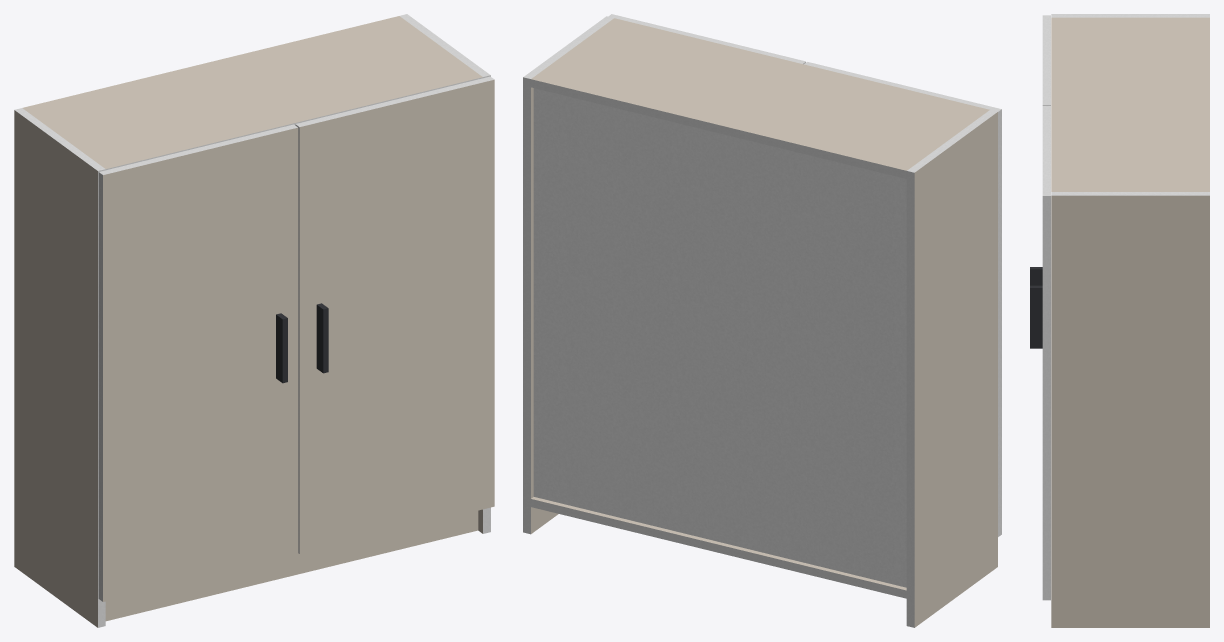
The model's file is CAL-SHO-std.glb.
3 views of the same model, side by side, from view 1: azimuth 30°, elevation 25°; view 2: azimuth 150°, elevation 25°; view 3: azimuth 270°, elevation 25° (orthographic). The views are drawn at different scales.
Parts seen in each view (by area): view 1: door-r:pbr, door-l:pbr, side-l:pbr, top:pbr, plinth:pbr, door-l:sheet:eyJtIjoibWRmIiwic2lkZSI6ImVkZ2UtbG9uZyIsInNlZWQ, pull, door-l:sheet:eyJtIjoibWRmIiwic2lkZSI6ImVkZ2UtZW5kIiwic2VlZCI, door-r:sheet:eyJtIjoibWRmIiwic2lkZSI6ImVkZ2UtZW5kIiwic2VlZCI, door-r:sheet:eyJtIjoibWRmIiwic2lkZSI6ImVkZ2UtbG9uZyIsInNlZWQ, side-l:sheet:eyJtIjoibWRmIiwic2lkZSI6ImVkZ2UtZW5kIiwic2VlZCI, side-r:sheet:eyJtIjoibWRmIiwic2lkZSI6ImVkZ2UtZW5kIiwic2VlZCI (+2 smaller); view 2: back:sheet:eyJtIjoibWRmIiwic2lkZSI6ImZhY2UiLCJzZWVkIjoxLCJ0a, side-l:pbr, top:pbr, side-l:sheet:eyJtIjoibWRmIiwic2lkZSI6ImVkZ2UtbG9uZyIsInNlZWQ, side-r:sheet:eyJtIjoibWRmIiwic2lkZSI6ImVkZ2UtbG9uZyIsInNlZWQ, top:sheet:eyJtIjoibWRmIiwic2lkZSI6ImVkZ2UtbG9uZyIsInNlZWQiOj, bottom:sheet:eyJtIjoibWRmIiwic2lkZSI6ImVkZ2UtbG9uZyIsInNlZWQ, door-l:sheet:eyJtIjoibWRmIiwic2lkZSI6ImVkZ2UtbG9uZyIsInNlZWQ, side-r:pbr, bottom:pbr, door-l:sheet:eyJtIjoibWRmIiwic2lkZSI6ImVkZ2UtZW5kIiwic2VlZCI, door-r:sheet:eyJtIjoibWRmIiwic2lkZSI6ImVkZ2UtZW5kIiwic2VlZCI (+2 smaller); view 3: side-r:pbr, top:pbr, door-r:sheet:eyJtIjoibWRmIiwic2lkZSI6ImVkZ2UtbG9uZyIsInNlZWQ, pull, door-l:sheet:eyJtIjoibWRmIiwic2lkZSI6ImVkZ2UtZW5kIiwic2VlZCI, door-r:sheet:eyJtIjoibWRmIiwic2lkZSI6ImVkZ2UtZW5kIiwic2VlZCI, side-l:sheet:eyJtIjoibWRmIiwic2lkZSI6ImVkZ2UtZW5kIiwic2VlZCI, side-r:sheet:eyJtIjoibWRmIiwic2lkZSI6ImVkZ2UtZW5kIiwic2VlZCI.
Part boxes in pixels (x1=…): door-r:pbr: x1=299, y1=79, x2=494, y2=553; door-l:pbr: x1=103, y1=127, x2=298, y2=601; side-l:pbr: x1=14, y1=110, x2=97, y2=627; top:pbr: x1=22, y1=16, x2=482, y2=168; plinth:pbr: x1=105, y1=510, x2=478, y2=621; door-l:sheet:eyJtIjoibWRmIiwic2lkZSI6ImVkZ2UtbG9uZyIsInNlZWQ: x1=98, y1=172, x2=102, y2=601; pull: x1=276, y1=303, x2=328, y2=383; door-l:sheet:eyJtIjoibWRmIiwic2lkZSI6ImVkZ2UtZW5kIiwic2VlZCI: x1=99, y1=124, x2=297, y2=174; door-r:sheet:eyJtIjoibWRmIiwic2lkZSI6ImVkZ2UtZW5kIiwic2VlZCI: x1=295, y1=76, x2=494, y2=127; door-r:sheet:eyJtIjoibWRmIiwic2lkZSI6ImVkZ2UtbG9uZyIsInNlZWQ: x1=295, y1=124, x2=299, y2=553; side-l:sheet:eyJtIjoibWRmIiwic2lkZSI6ImVkZ2UtZW5kIiwic2VlZCI: x1=14, y1=108, x2=105, y2=170; side-r:sheet:eyJtIjoibWRmIiwic2lkZSI6ImVkZ2UtZW5kIiwic2VlZCI: x1=400, y1=14, x2=490, y2=76; back:sheet:eyJtIjoibWRmIiwic2lkZSI6ImZhY2UiLCJzZWVkIjoxLCJ0a: x1=533, y1=88, x2=906, y2=587; side-l:pbr: x1=914, y1=112, x2=997, y2=627; top:pbr: x1=531, y1=18, x2=989, y2=170; side-l:sheet:eyJtIjoibWRmIiwic2lkZSI6ImVkZ2UtbG9uZyIsInNlZWQ: x1=906, y1=171, x2=914, y2=627; side-r:sheet:eyJtIjoibWRmIiwic2lkZSI6ImVkZ2UtbG9uZyIsInNlZWQ: x1=523, y1=77, x2=530, y2=534; top:sheet:eyJtIjoibWRmIiwic2lkZSI6ImVkZ2UtbG9uZyIsInNlZWQiOj: x1=531, y1=79, x2=906, y2=178; bottom:sheet:eyJtIjoibWRmIiwic2lkZSI6ImVkZ2UtbG9uZyIsInNlZWQ: x1=531, y1=499, x2=906, y2=598; door-l:sheet:eyJtIjoibWRmIiwic2lkZSI6ImVkZ2UtbG9uZyIsInNlZWQ: x1=998, y1=109, x2=1001, y2=536; side-r:pbr: x1=531, y1=87, x2=558, y2=533; bottom:pbr: x1=531, y1=497, x2=906, y2=590; door-l:sheet:eyJtIjoibWRmIiwic2lkZSI6ImVkZ2UtZW5kIiwic2VlZCI: x1=804, y1=62, x2=1001, y2=111; door-r:sheet:eyJtIjoibWRmIiwic2lkZSI6ImVkZ2UtZW5kIiwic2VlZCI: x1=608, y1=14, x2=805, y2=63; side-r:pbr: x1=1051, y1=195, x2=1209, y2=627; top:pbr: x1=1051, y1=17, x2=1209, y2=191; door-r:sheet:eyJtIjoibWRmIiwic2lkZSI6ImVkZ2UtbG9uZyIsInNlZWQ: x1=1042, y1=196, x2=1050, y2=600; pull: x1=1030, y1=267, x2=1042, y2=348; door-l:sheet:eyJtIjoibWRmIiwic2lkZSI6ImVkZ2UtZW5kIiwic2VlZCI: x1=1042, y1=15, x2=1050, y2=105; door-r:sheet:eyJtIjoibWRmIiwic2lkZSI6ImVkZ2UtZW5kIiwic2VlZCI: x1=1042, y1=106, x2=1050, y2=195; side-l:sheet:eyJtIjoibWRmIiwic2lkZSI6ImVkZ2UtZW5kIiwic2VlZCI: x1=1051, y1=14, x2=1209, y2=17; side-r:sheet:eyJtIjoibWRmIiwic2lkZSI6ImVkZ2UtZW5kIiwic2VlZCI: x1=1051, y1=192, x2=1209, y2=195.
Size of the model in its own units: 0.9 by 1 by 0.3766.
34 materials, 23 textured.
